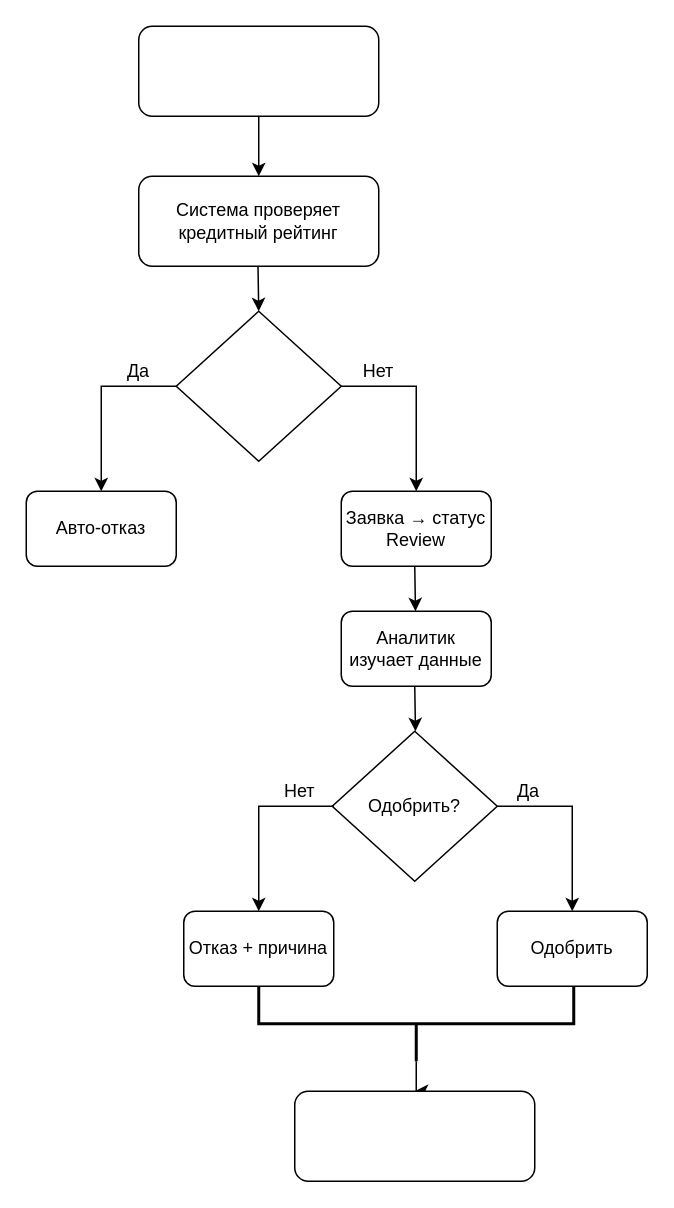
This 674x1208 diagram has some shape labels left out. The box of each missing label's shape, as (x1, y1, x2, y2) in pixels:
Клиент подает заявку: (137, 25, 379, 116)
Рейтинг < 300: (175, 310, 341, 461)
Уведомить клиента: (293, 1090, 535, 1181)
